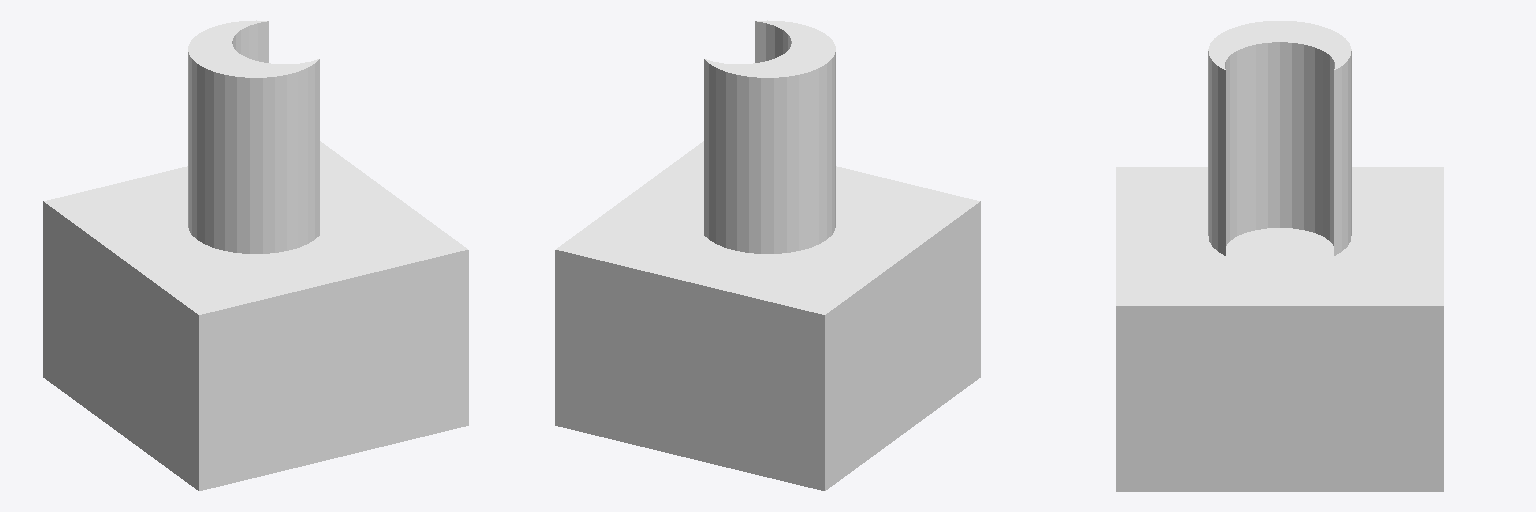
robot.urdf — moon:
<robot name="moon">
	<link name="_name">
		<visual>
			<origin rpy="0 0 0" xyz="0.00012687035372052345 3.8308902262742253e-19 -0.00640090082975166" />
			<geometry>
				<mesh filename="moon.obj" scale=".001 .001 .001" />
			</geometry>
			<material name="texture">
				<color rgba="1.0 1.0 1.0 1.0" />
			</material>
		</visual>
		<collision>
			<geometry>
				<mesh filename="moon_vhacd.obj" scale=".001 .001 .001" />
			</geometry>
		<origin rpy="0 0 0" xyz="0.00012687035372052345 3.8308902262742253e-19 -0.00640090082975166" /></collision>
		<inertial>
			<mass value="1.0" />
			<inertia ixx="1.0" ixy="0.0" ixz="0.0" iyy="1.0" iyz="0.0" izz="1.0" />
		</inertial>
	</link>
</robot>

--- Render facts (derived) ---
3 views of the same robot in one strip: view 1: azimuth 30°, elevation 25°; view 2: azimuth 150°, elevation 25°; view 3: azimuth 270°, elevation 25° (orthographic).
Robot: moon — 1 links, 0 joints (none); root link _name; default pose: every joint at zero.
Links seen in each view (by area): view 1: _name; view 2: _name; view 3: _name.
Link boxes in pixels (bbox=[...]): _name: bbox=[43, 20, 468, 490]; _name: bbox=[555, 20, 980, 490]; _name: bbox=[1116, 21, 1443, 491].
Bounding box of the posed robot: 0.016 × 0.016 × 0.02 m (x, y, z).
1 mesh visuals loaded from 1 distinct referenced files (1 OBJ).